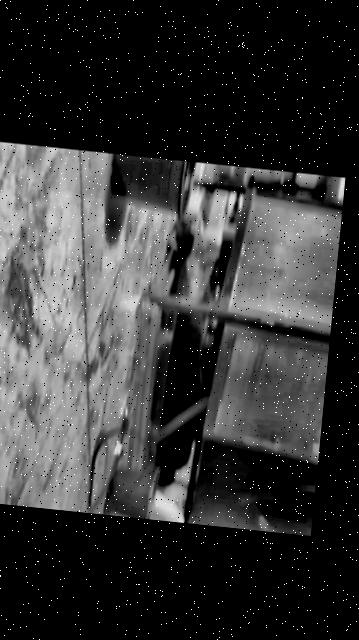pot: (106, 154, 194, 222), (104, 470, 157, 520)
